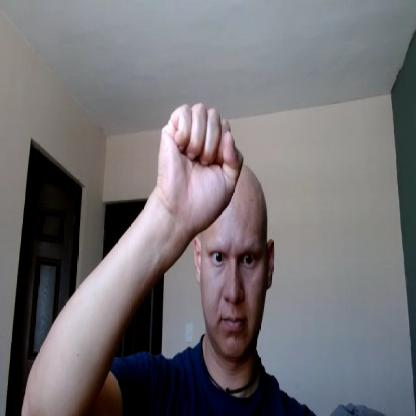S: (157, 101, 245, 229)
